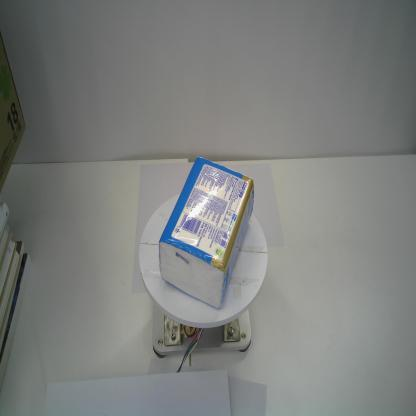Tissue: (157, 153, 256, 311)
